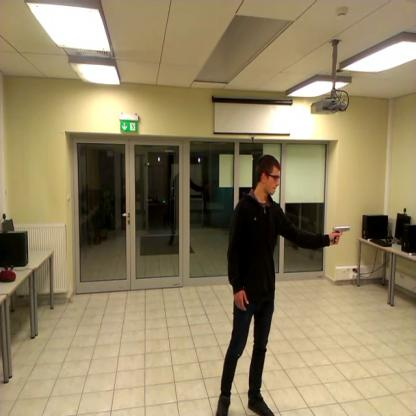Pistol: (326, 220, 354, 247)
